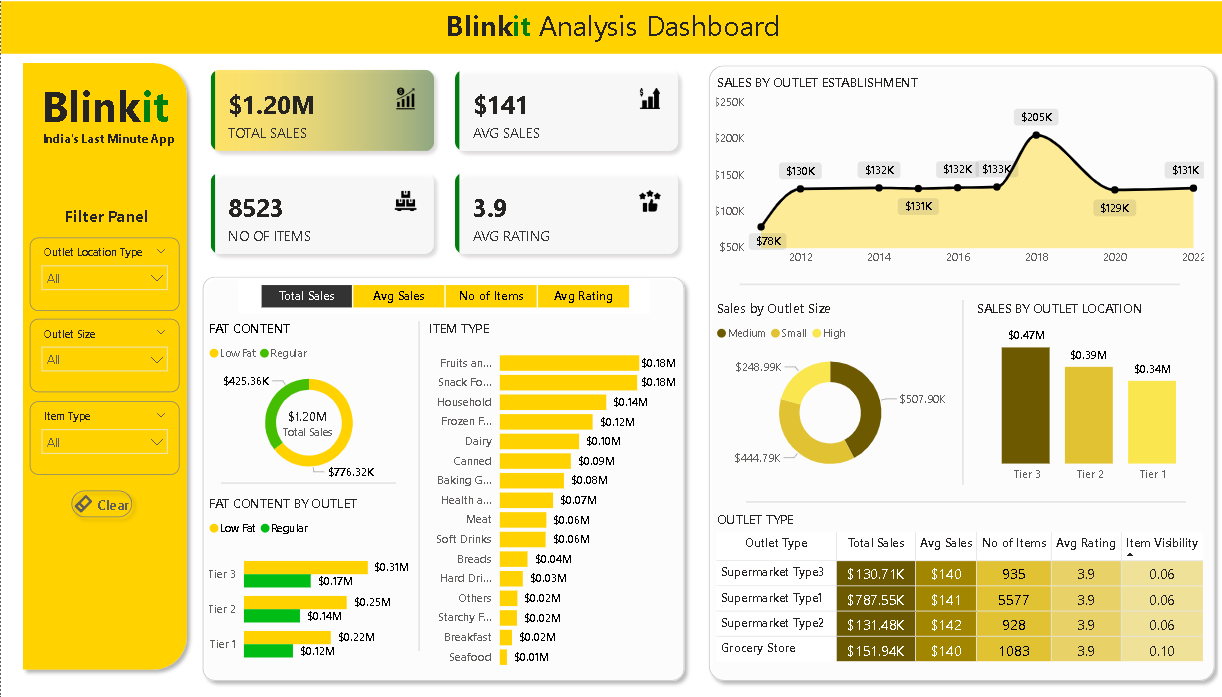

The page's visual inventory and layout, read from the dashboard file:
{"tool":"powerbi","page":{"name":"Page 1","canvas":[1400,800],"ordinal":0},"visuals":[{"type":"shape","box":[15.7,62.9,205.7,711.4],"z":0},{"type":"textbox","box":[35.6,83,167.1,77.1],"z":1000},{"type":"textbox","box":[35.6,144.1,175.7,34.3],"z":2000},{"type":"cardVisual","fields":{"Data":["BlinkIT Grocery Data.Total Sales","BlinkIT Grocery Data.Avg Sales","BlinkIT Grocery Data.No of Items","BlinkIT Grocery Data.Avg Rating"]},"box":[222.9,62.9,568.6,244.3],"z":3000},{"type":"shape","box":[221.4,307.1,568.6,480],"z":4000},{"type":"donutChart","title":"FAT CONTENT","fields":{"Y":["BlinkIT Grocery Data.Total Sales"],"Category":["BlinkIT Grocery Data.Item Fat Content"]},"box":[232.9,364.7,238.6,190],"z":5000},{"type":"slicer","fields":{"Values":["metrics.metrics"]},"box":[271.4,318.6,470,40],"z":6000},{"type":"cardVisual","fields":{"Data":["BlinkIT Grocery Data.Total Sales"]},"box":[297.1,448.6,107.1,58.6],"z":7000},{"type":"clusteredBarChart","title":"FAT CONTENT BY OUTLET","fields":{"Y":["BlinkIT Grocery Data.Total Sales"],"Category":["BlinkIT Grocery Data.Outlet Location Type"],"Series":["BlinkIT Grocery Data.Item Fat Content"]},"box":[232.9,564.3,238.6,210],"z":8000},{"type":"shape","box":[471.4,367.1,12.9,377.1],"z":9000},{"type":"shape","box":[251.4,544.3,200,15.7],"z":10000},{"type":"clusteredBarChart","title":"ITEM TYPE","fields":{"Y":["BlinkIT Grocery Data.Total Sales"],"Category":["BlinkIT Grocery Data.Item Type"]},"box":[484.3,364.3,292.9,410],"z":11000},{"type":"shape","box":[800,65.7,596,721.4],"z":12000},{"type":"lineChart","title":"SALES BY OUTLET ESTABLISHMENT","fields":{"Category":["BlinkIT Grocery Data.Outlet Establishment Year"],"Y":["BlinkIT Grocery Data.Total Sales"]},"box":[812.9,82.9,567.1,230],"z":13000},{"type":"shape","box":[844.3,317.1,502.9,15.7],"z":14000},{"type":"shape","box":[1088.6,342.9,21.4,211.4],"z":15000},{"type":"clusteredColumnChart","title":"SALES BY OUTLET LOCATION","fields":{"Category":["BlinkIT Grocery Data.Outlet Location Type"],"Y":["BlinkIT Grocery Data.Total Sales"]},"box":[1110,341.4,270,218.6],"z":16000},{"type":"donutChart","title":"Sales by Outlet Size","fields":{"Category":["BlinkIT Grocery Data.Outlet Size"],"Y":["BlinkIT Grocery Data.Total Sales"]},"box":[812.9,341.4,270,212.9],"z":17000},{"type":"shape","box":[851.4,565.7,502.9,15.7],"z":18000},{"type":"pivotTable","title":"OUTLET TYPE","fields":{"Rows":["BlinkIT Grocery Data.Outlet Type"],"Values":["BlinkIT Grocery Data.Total Sales","BlinkIT Grocery Data.Avg Sales","BlinkIT Grocery Data.No of Items","BlinkIT Grocery Data.Avg Rating","Avg(BlinkIT Grocery Data.Item Visibility)"]},"box":[812.9,582.9,567.1,181.4],"z":19000},{"type":"slicer","fields":{"Values":["BlinkIT Grocery Data.Outlet Location Type"]},"box":[32.8,271.9,171.2,83.8],"z":20000},{"type":"slicer","fields":{"Values":["BlinkIT Grocery Data.Outlet Size"]},"box":[33.1,364.9,171.4,84.3],"z":21000},{"type":"slicer","fields":{"Values":["BlinkIT Grocery Data.Item Type"]},"box":[33.1,459.2,171.4,84.3],"z":22000},{"type":"textbox","box":[61.7,229.2,118.6,42.9],"z":23000},{"type":"actionButton","box":[71.5,551.9,87.5,48.8],"z":24000},{"type":"textbox","box":[0,1.4,1400,60],"z":24001}]}

Visuals, with their boxes in screenshot pixels (x1, y1, x2, y2), scaled from the page's 1400x800 canvas onto the 1222x697 screenshot:
shape: bbox(14, 55, 193, 675)
textbox: bbox(31, 72, 177, 139)
textbox: bbox(31, 126, 184, 155)
cardVisual - BlinkIT Grocery Data.Total Sales x BlinkIT Grocery Data.Avg Sales: bbox(195, 55, 691, 268)
shape: bbox(193, 268, 690, 686)
"FAT CONTENT" donutChart: bbox(203, 318, 412, 483)
slicer - metrics.metrics: bbox(237, 278, 647, 312)
cardVisual - BlinkIT Grocery Data.Total Sales: bbox(259, 391, 353, 442)
"FAT CONTENT BY OUTLET" clusteredBarChart: bbox(203, 492, 412, 675)
shape: bbox(411, 320, 423, 648)
shape: bbox(219, 474, 394, 488)
"ITEM TYPE" clusteredBarChart: bbox(423, 317, 678, 675)
shape: bbox(698, 57, 1219, 686)
"SALES BY OUTLET ESTABLISHMENT" lineChart: bbox(710, 72, 1205, 273)
shape: bbox(737, 276, 1176, 290)
shape: bbox(950, 299, 969, 483)
"SALES BY OUTLET LOCATION" clusteredColumnChart: bbox(969, 297, 1205, 488)
"Sales by Outlet Size" donutChart: bbox(710, 297, 945, 483)
shape: bbox(743, 493, 1182, 507)
"OUTLET TYPE" pivotTable: bbox(710, 508, 1205, 666)
slicer - BlinkIT Grocery Data.Outlet Location Type: bbox(29, 237, 178, 310)
slicer - BlinkIT Grocery Data.Outlet Size: bbox(29, 318, 178, 391)
slicer - BlinkIT Grocery Data.Item Type: bbox(29, 400, 178, 474)
textbox: bbox(54, 200, 157, 237)
actionButton: bbox(62, 481, 139, 523)
textbox: bbox(0, 1, 1221, 53)
